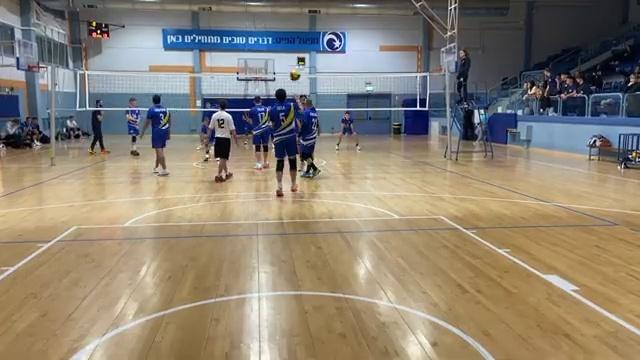ball: (289, 70, 301, 83)
